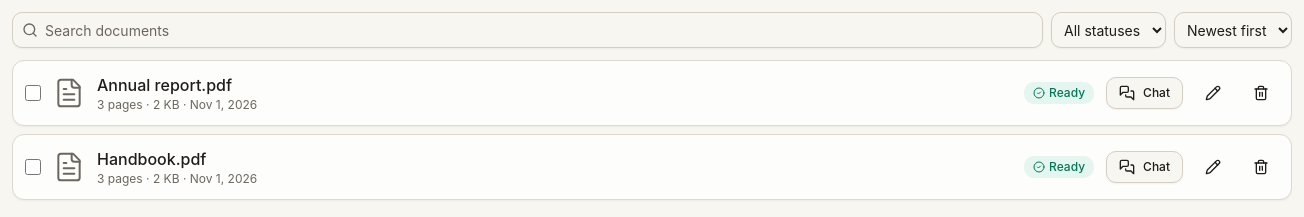
DocumentList › debounces the search: one request after typing stops, not one per key
The image size is (1304, 217).
Type "hand" into the search field named "Search documents by name" at (528, 30), box left=12, top=12, right=1043, bottom=48
Wait 350 ms
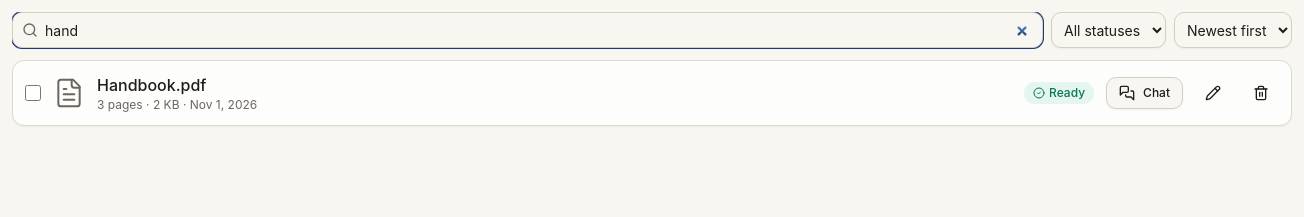
Result: the number of list items is 1 at left=12, top=60, right=1292, bottom=126
